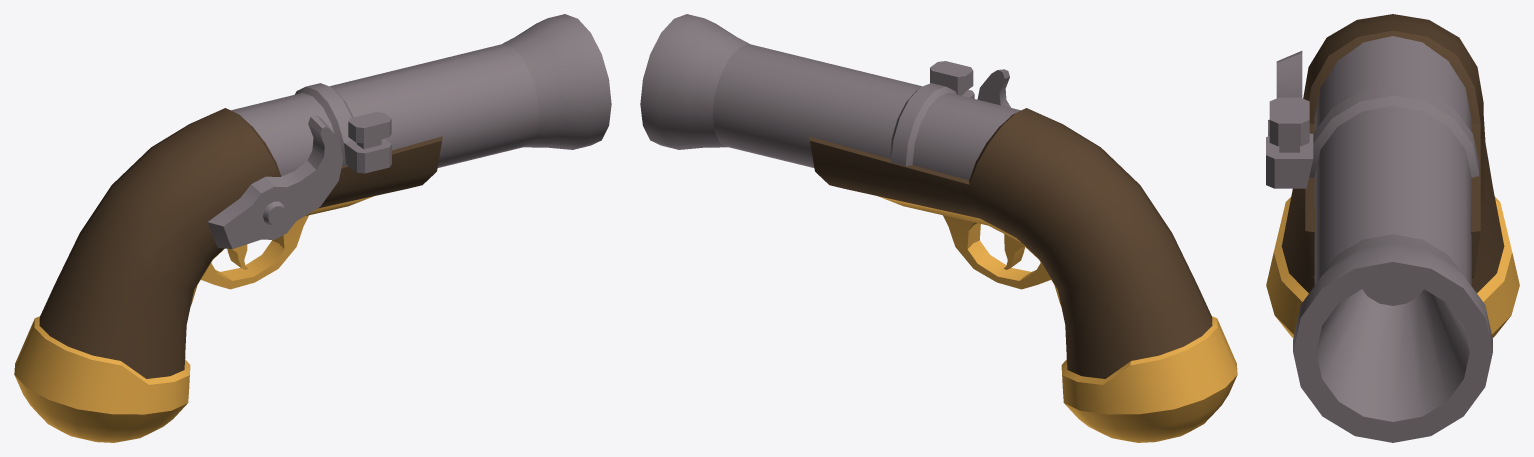
File: quaternius-pirate-weapon-pistol.glb
3 renders of one model, left to right at view 1: azimuth 30°, elevation 25°; view 2: azimuth 150°, elevation 25°; view 3: azimuth 270°, elevation 25°, orthographic. The views are drawn at different scales.
Parts seen in each view (by area): view 1: Weapon_Pistol; view 2: Weapon_Pistol; view 3: Weapon_Pistol.
Boxes of the visible parts, box(x1,y1,x2,y2) form: Weapon_Pistol: box(14, 14, 611, 442); Weapon_Pistol: box(640, 14, 1237, 442); Weapon_Pistol: box(1266, 14, 1519, 442).
Size of the model in its own units: 1.24 by 0.6451 by 0.3341.
Materials: 1 (1 with a texture image).
